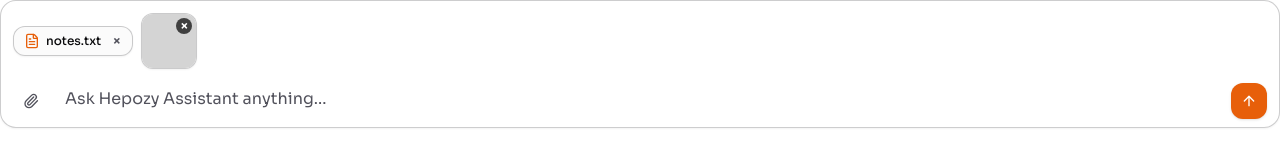
it: ChatInput Component › renders staged preview strip with image thumbnail, doc icon, and interactive remove buttons
Check: the element with test id "staged-preview-strip" is shown, box [13, 13, 197, 69]
Check: the text "notes.txt" is shown, box [46, 33, 101, 49]
Click the button named "remove notes.txt" at (117, 41), box [111, 33, 122, 49]
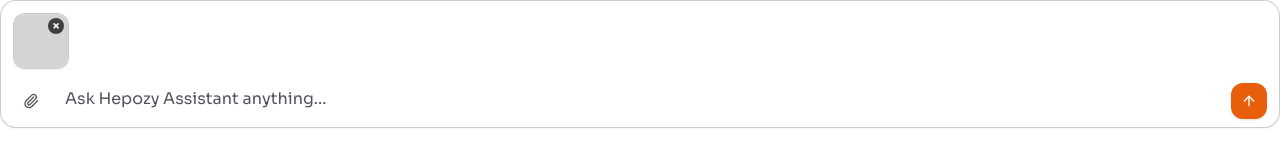
Check: the text "notes.txt" is gone
